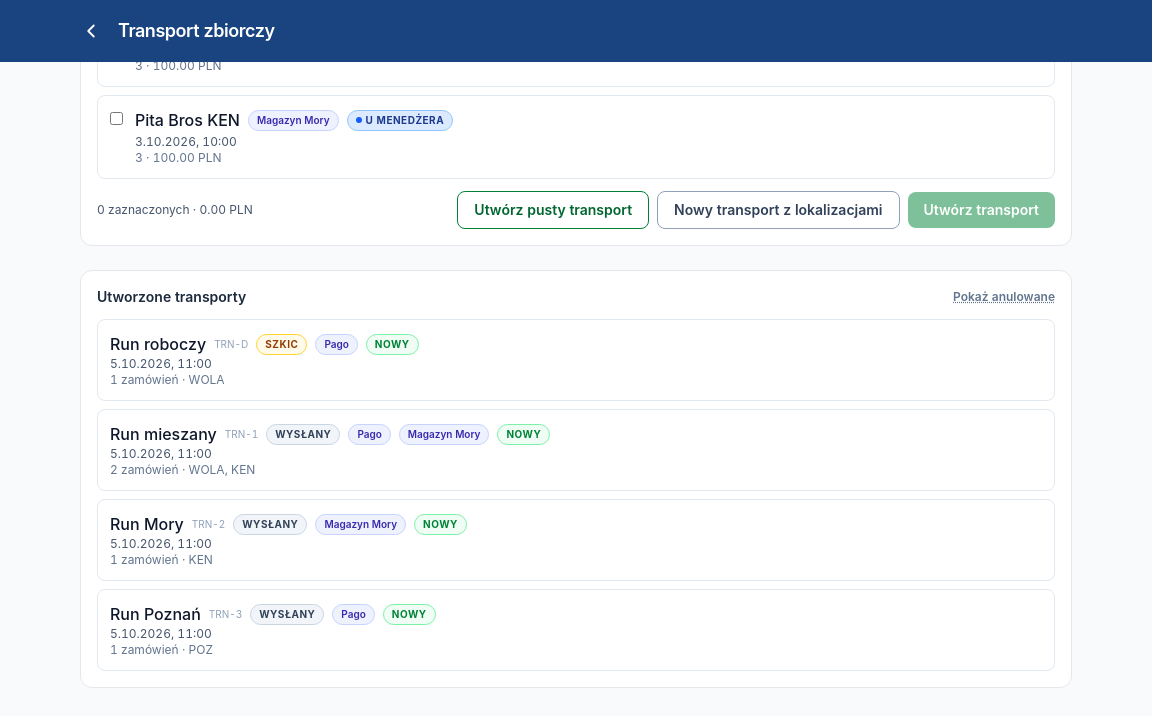
Test: TransportPage — send panel wiring › an empty order mailbox disables the sends with the no-mailbox reason
(page scrolled)
Step 1. Click the button "Run roboczy" → (158, 344), box 97,319 -> 1055,401
(page scrolled)
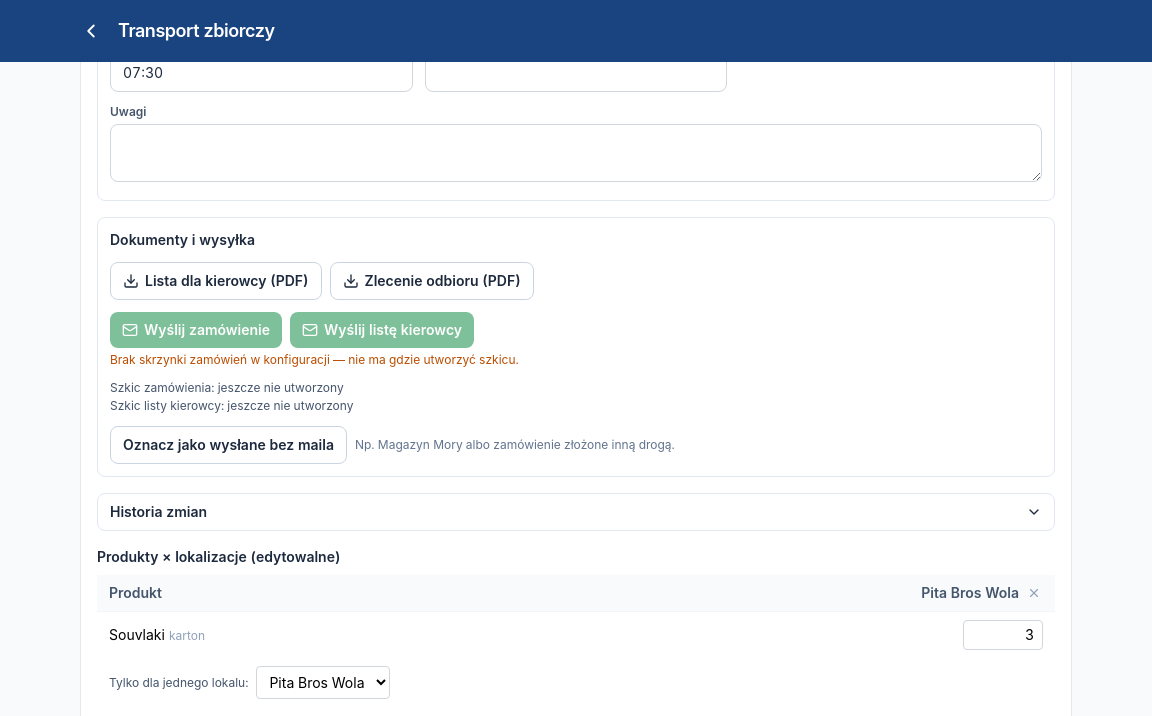
expect the button "Wyślij zamówienie" is disabled: met, box 110,312 -> 282,348
expect the button "Wyślij listę kierowcy" is disabled: met, box 290,312 -> 474,348
expect the list item "Brak skrzynki zamówień w konfiguracji — nie ma gdzie utworzyć szkicu." is shown: met, box 110,352 -> 519,367
